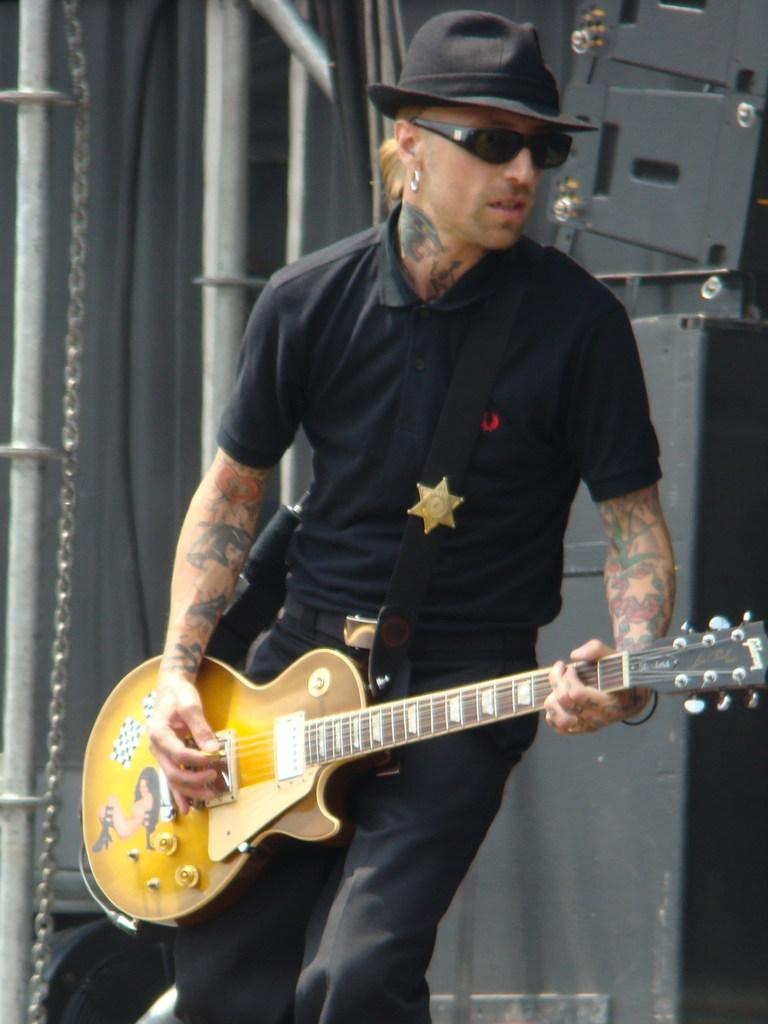Hat: (368, 10, 597, 134)
